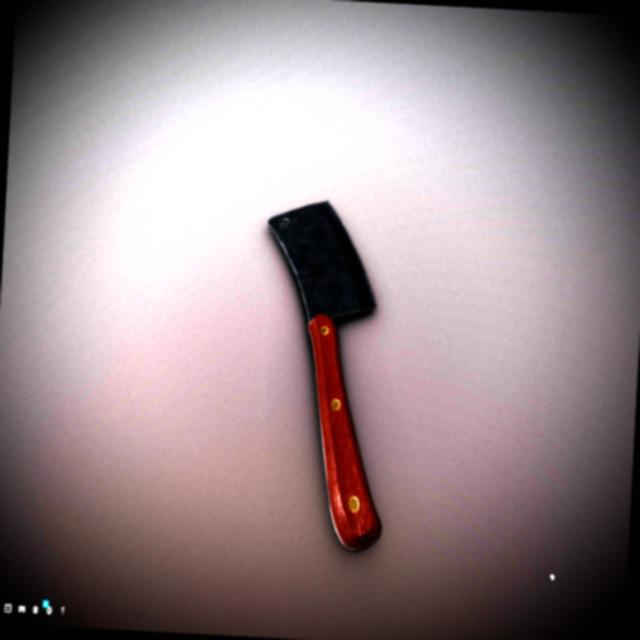cleaver: (250, 196, 419, 560)
